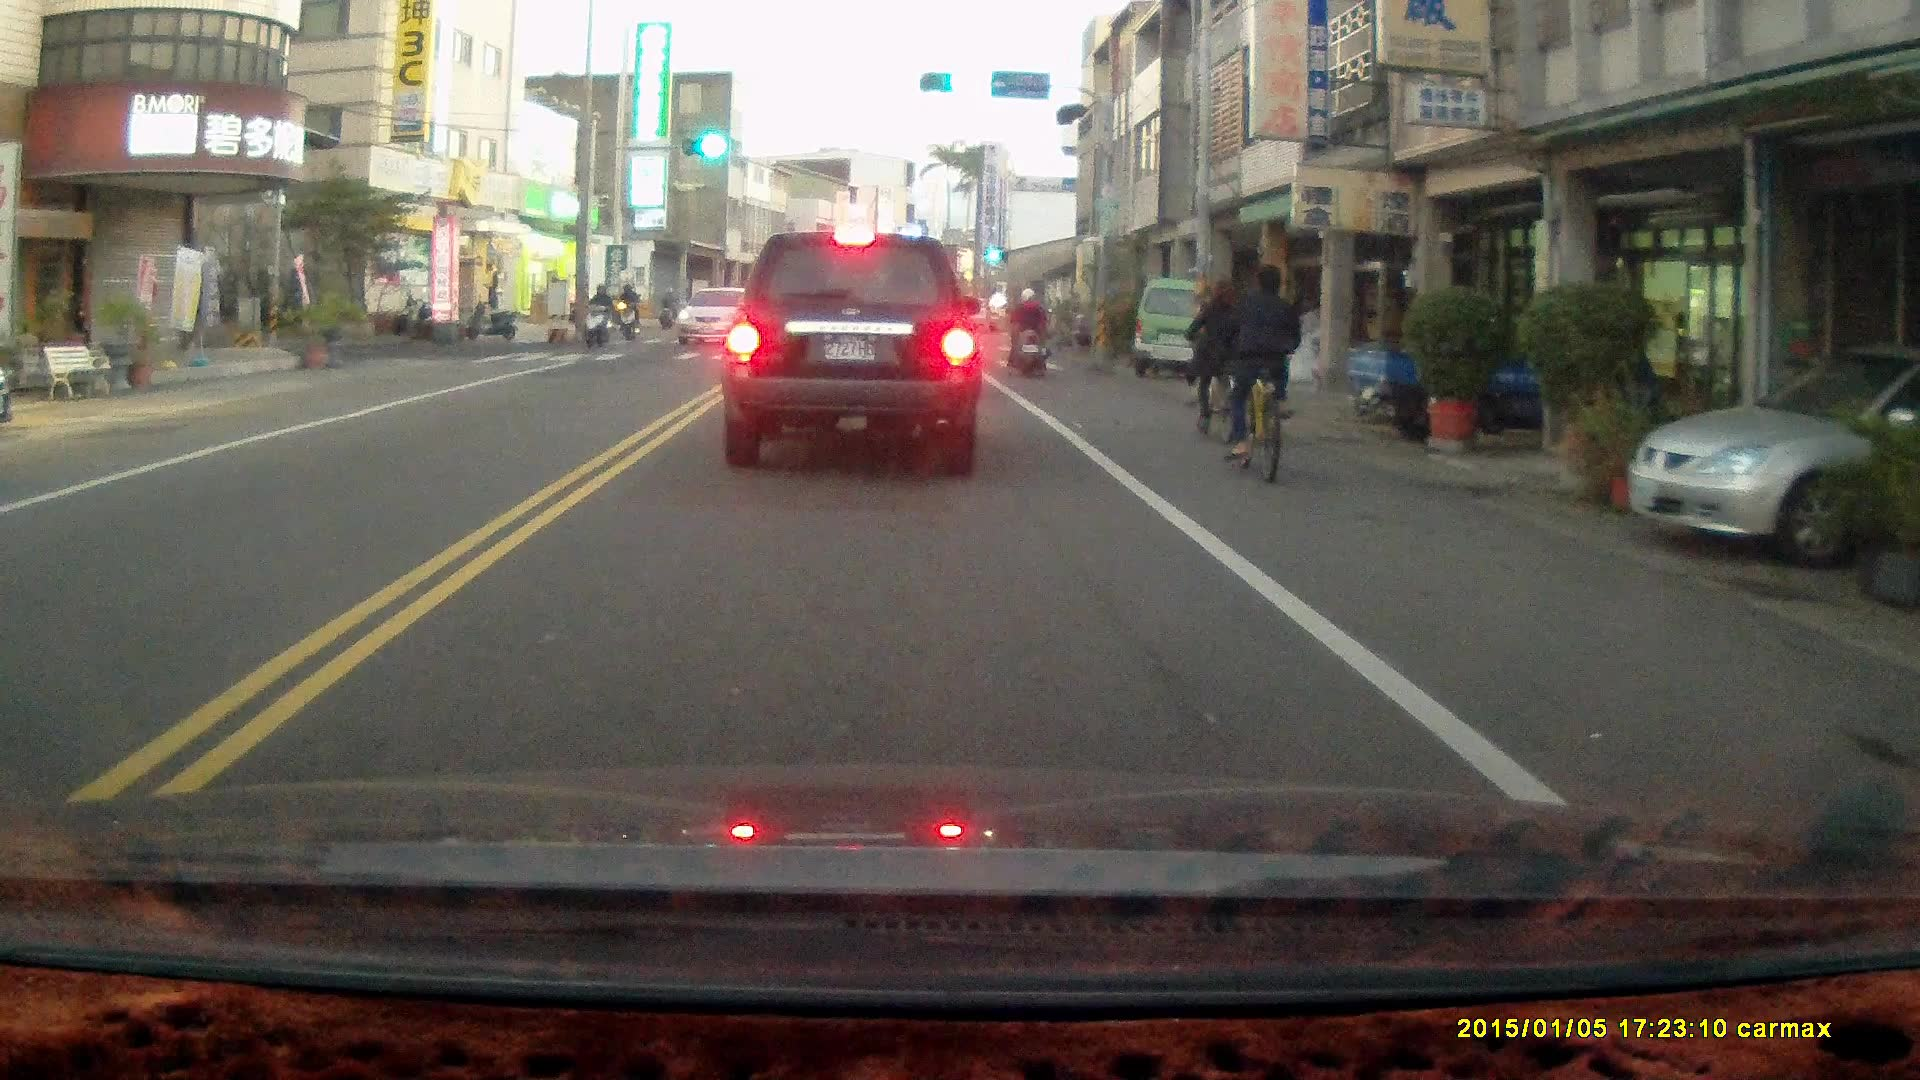pedestrian: (480, 260, 500, 315)
rider: (1216, 260, 1301, 481), (1182, 275, 1245, 443), (998, 283, 1052, 376), (579, 279, 615, 351), (610, 279, 639, 340), (655, 285, 675, 326)
vehicle: (1625, 341, 1920, 574), (720, 230, 985, 480), (1136, 277, 1234, 372), (670, 286, 773, 353)
